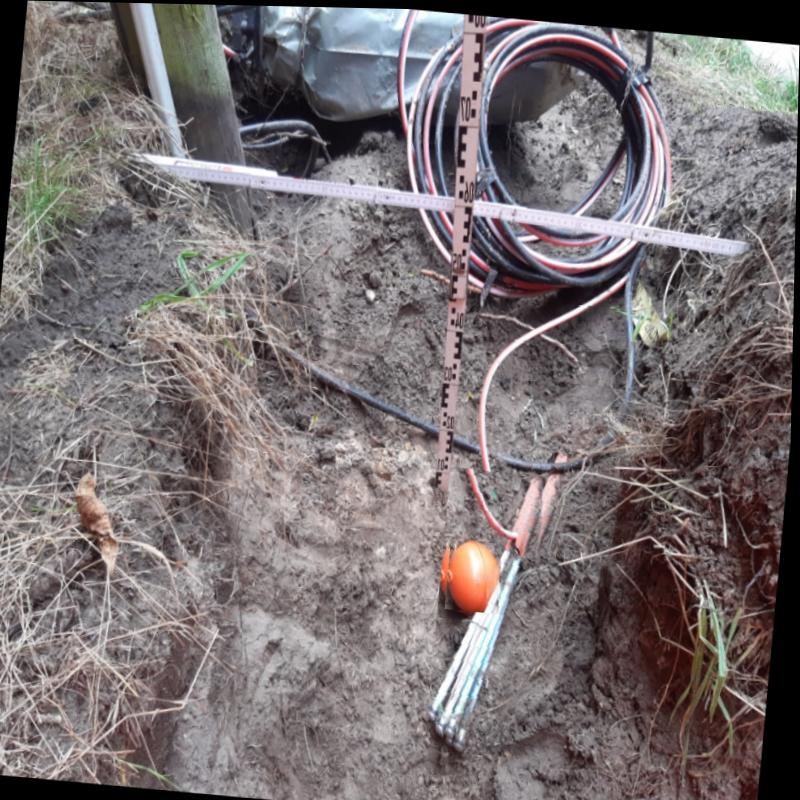Kugelmarker: (450, 536, 503, 609)
Orang-Speednetrohrchen: (430, 474, 548, 751)
